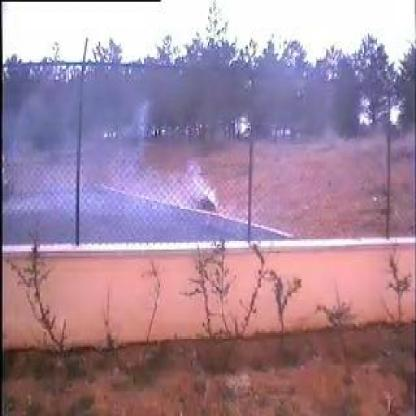-: (79, 62, 249, 245)
